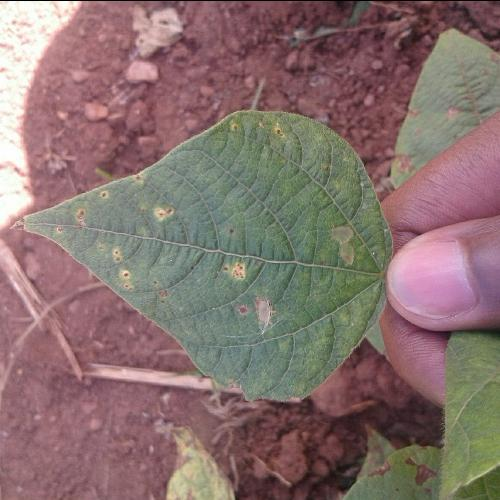hawar: (230, 104, 364, 180), (207, 360, 308, 411), (214, 253, 268, 293), (151, 207, 184, 228), (70, 204, 94, 228)
mozaik: (302, 134, 379, 368)
